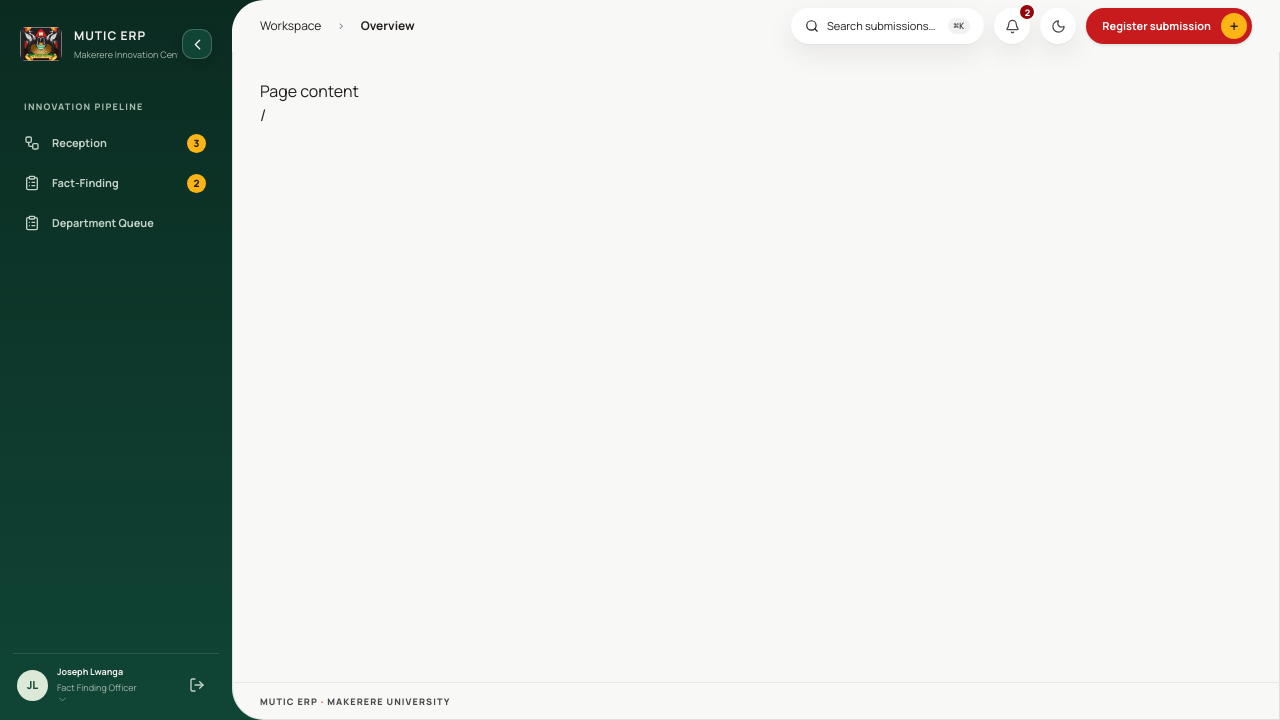
Test: BackendWorkspace › searches submissions and shows matching results
Click the button with aria-label "search cases".
click(888, 26)  # box left=791, top=8, right=984, bottom=44
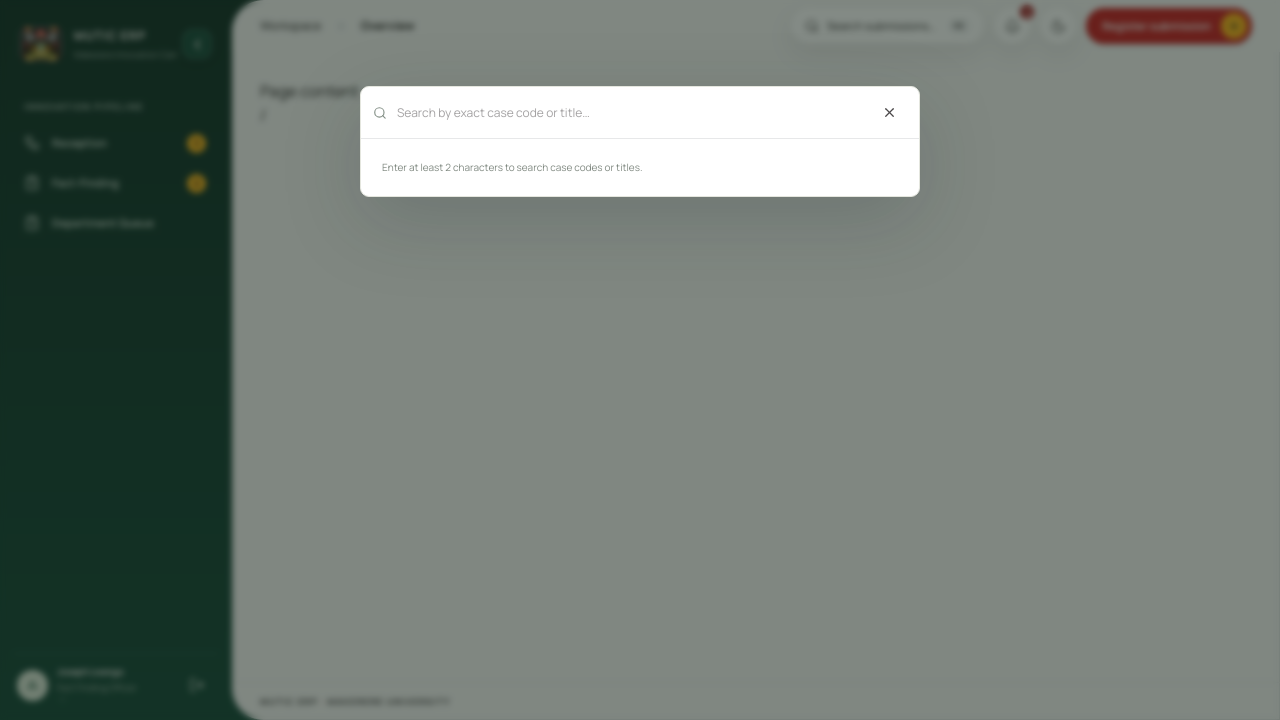
Type "Smart " into the field named "Search cases".
click(629, 113); type("Smart ")  # box left=397, top=87, right=861, bottom=138
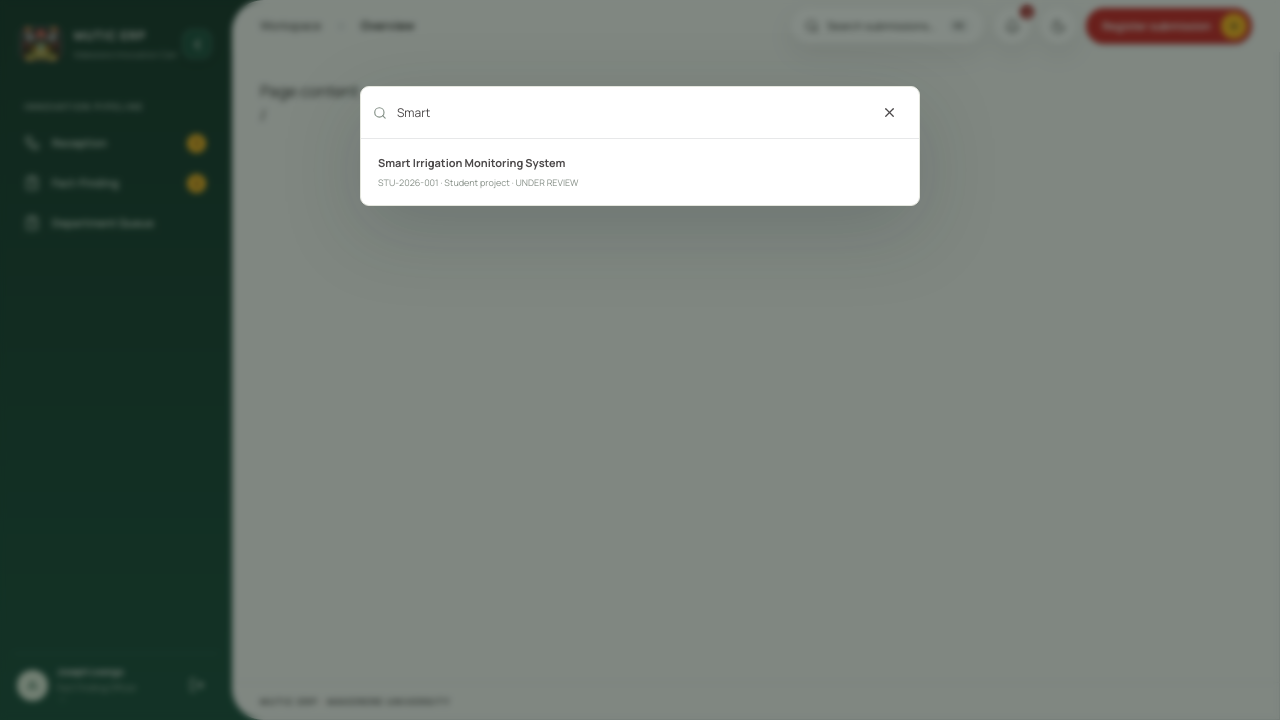
expect the text "Smart Irrigation Monitoring System" is shown: met, box left=378, top=155, right=578, bottom=171
